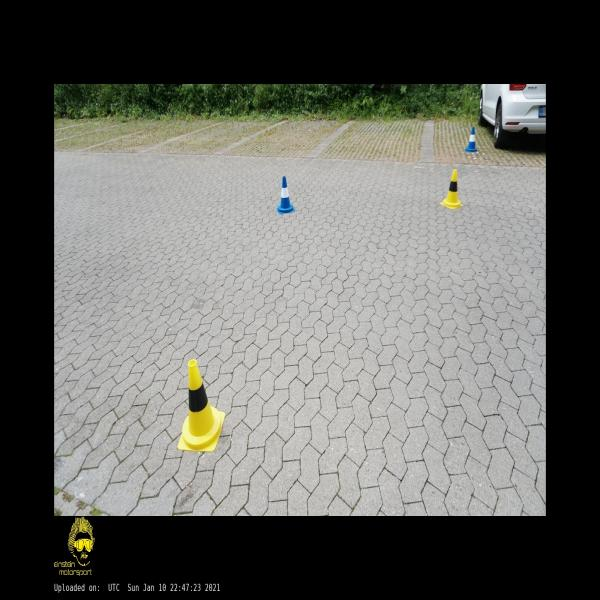blue_cone: (277, 176, 295, 214), (465, 127, 478, 152)
yellow_cone: (178, 359, 225, 452), (439, 170, 464, 210)
